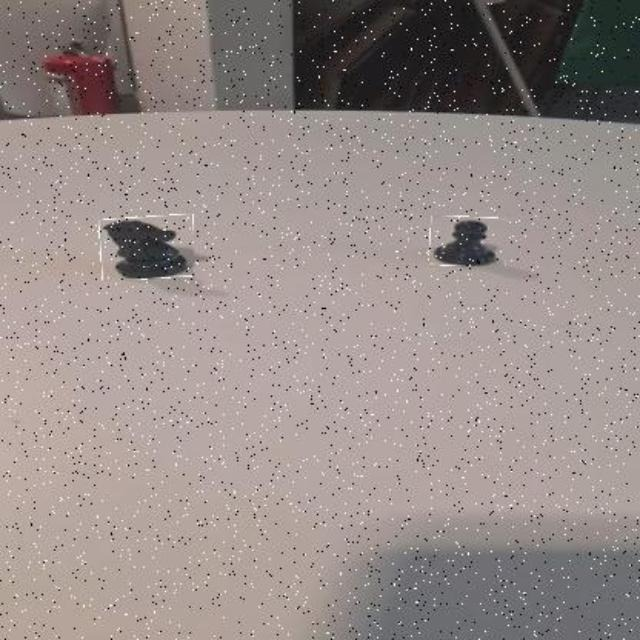black-knight: (99, 216, 194, 280)
black-pawn: (429, 217, 507, 267)
